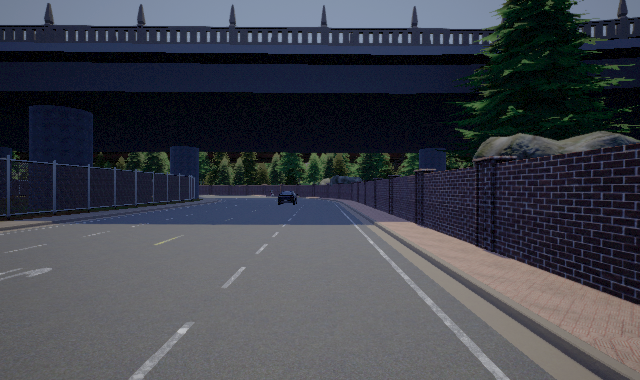vehicle: (276, 188, 298, 208)
